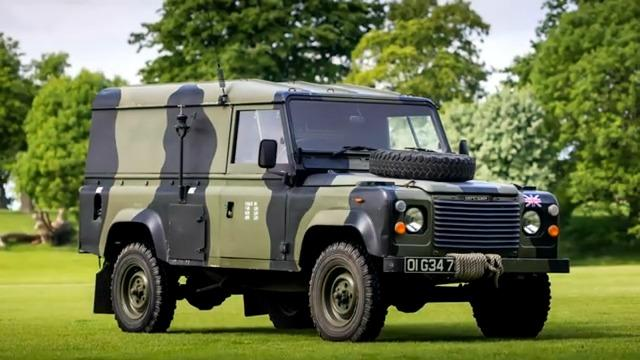MIL_HMMWV: (78, 81, 570, 344)
